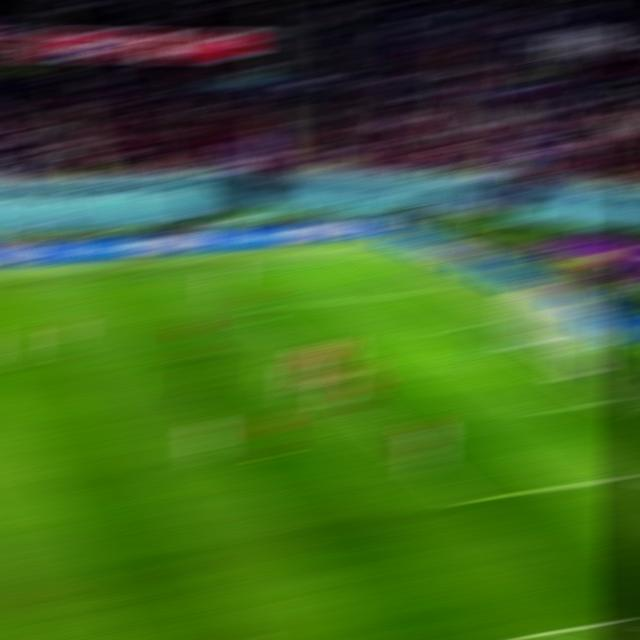bigarea_bottom_inner: (447, 489, 484, 510)
bigarea_top_inner: (232, 302, 265, 317)
bigarea_top_outter: (406, 285, 439, 296)
bottom_arc_area_intersection: (358, 412, 391, 427)
corner: (346, 252, 380, 261)
smallarea_bottom_inner: (521, 400, 557, 421)
smallarea_bottom_outter: (592, 394, 625, 408)
smallarea_top_inner: (407, 326, 439, 339)
smallarea_top_outter: (465, 319, 498, 332)
top_arc_area_intersection: (283, 347, 314, 360)
